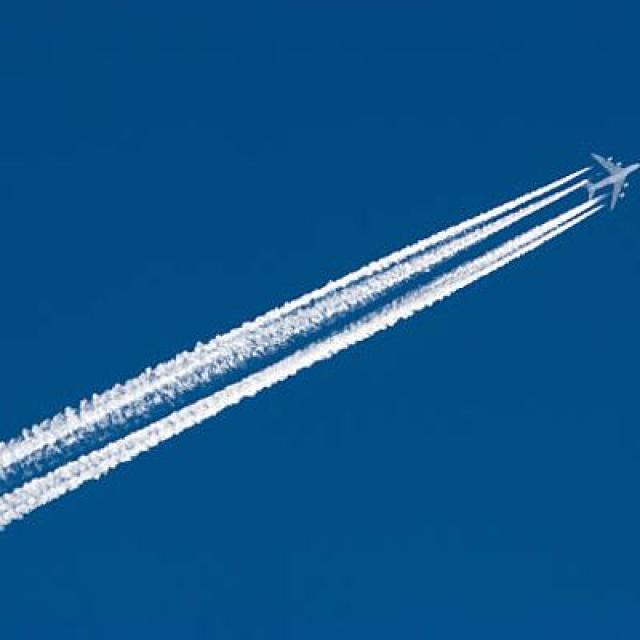Ct: (1, 142, 619, 515)
